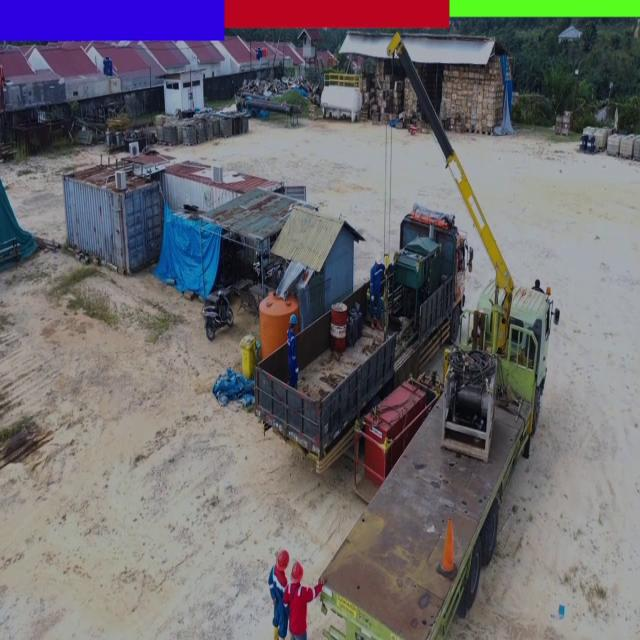Hardhat: (276, 547, 289, 571), (291, 562, 304, 581), (373, 252, 384, 269), (288, 312, 299, 326)
No Glove: (320, 573, 329, 586)
No Overall Suit: (282, 581, 321, 640), (370, 265, 384, 317), (286, 331, 298, 388)
Overall Suit: (270, 570, 287, 637)
Safety Boots: (376, 318, 383, 332), (369, 316, 375, 332)
